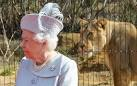lion: (76, 15, 137, 84)
